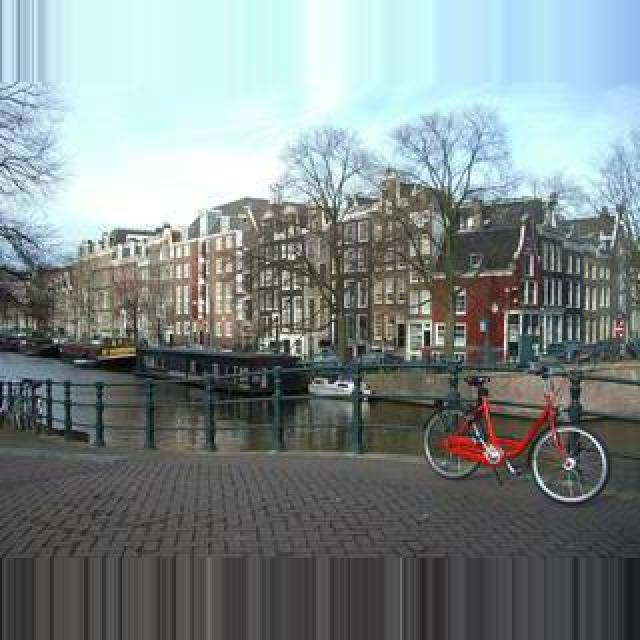Person: (421, 367, 611, 505)
